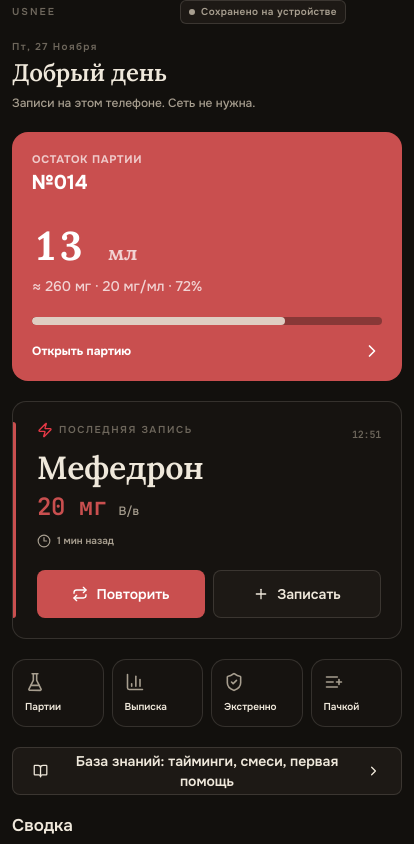
Test: Home › repeats the last entry in one tap
Click the button "Повторить": {"x": 121, "y": 594} left=37, top=570, right=205, bottom=618
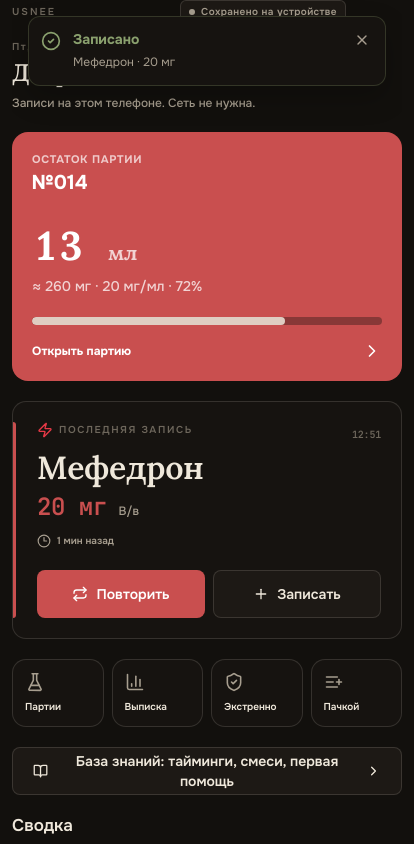
Result: the text "Записано" is shown at left=73, top=30, right=139, bottom=48
